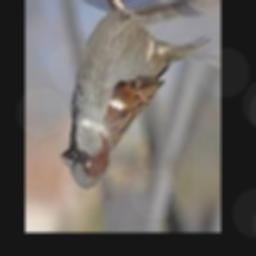Sparrow: (60, 0, 210, 190)
